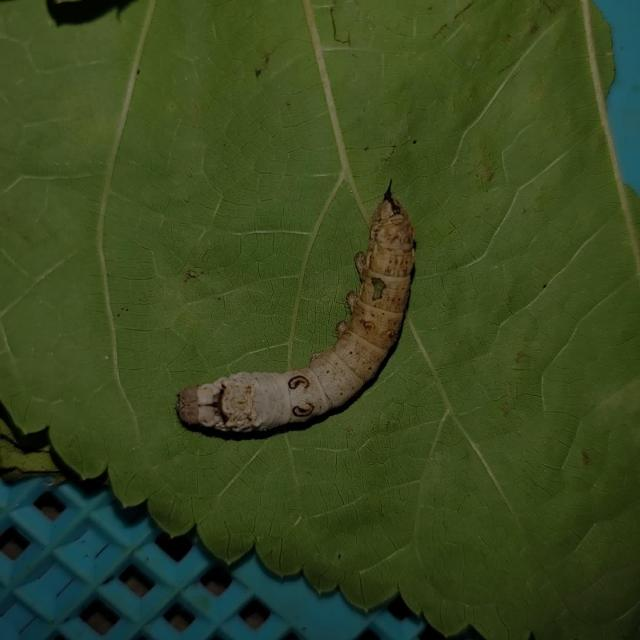Grasserie: (165, 191, 428, 450)
